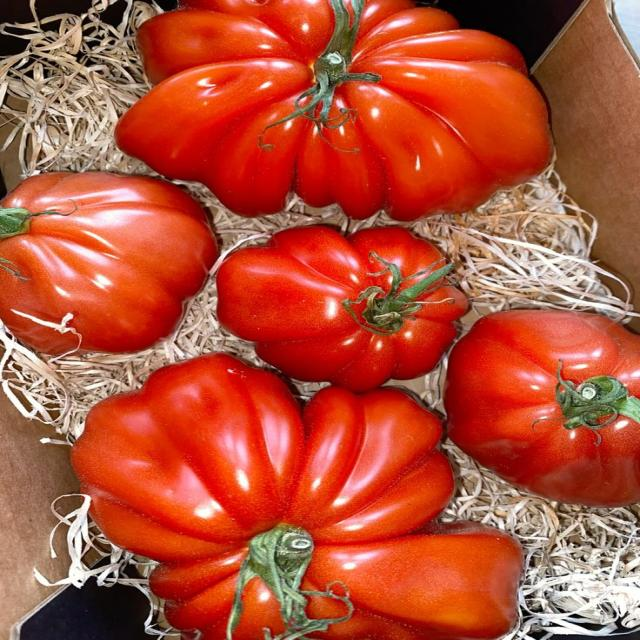tomato: (73, 354, 522, 639), (116, 0, 550, 220), (217, 227, 466, 391), (0, 172, 217, 354), (446, 311, 639, 506)
